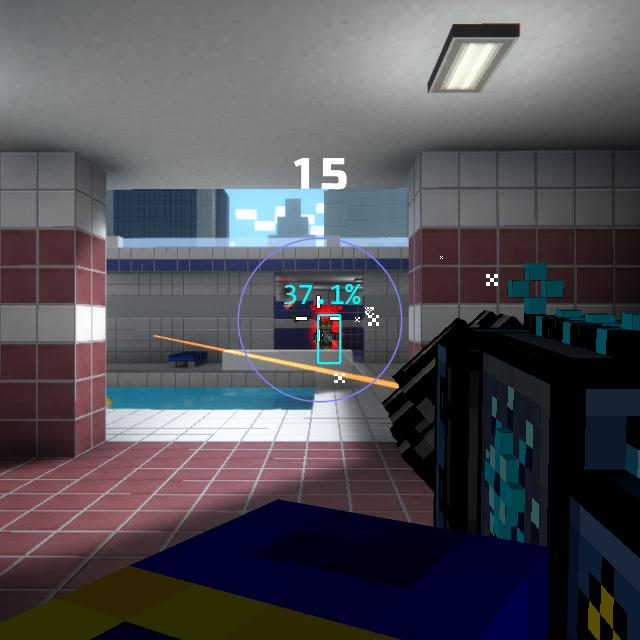Enemy: (312, 318, 338, 350)
